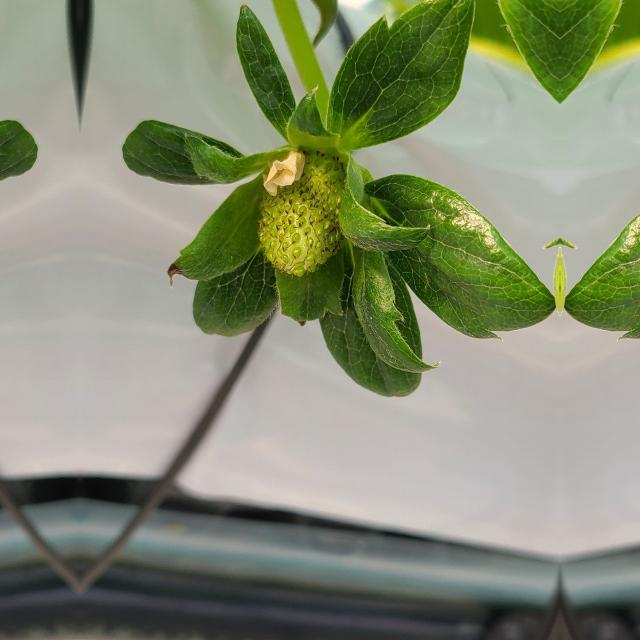Health_25: (258, 152, 350, 276)
